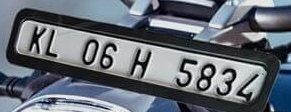0: (80, 38, 100, 68)
3: (215, 68, 237, 97)
4: (236, 74, 259, 101)
5: (175, 57, 198, 89)
6: (99, 42, 118, 71)
8: (196, 63, 217, 94)
H: (129, 48, 153, 80)
K: (28, 24, 47, 55)
L: (45, 28, 62, 59)
